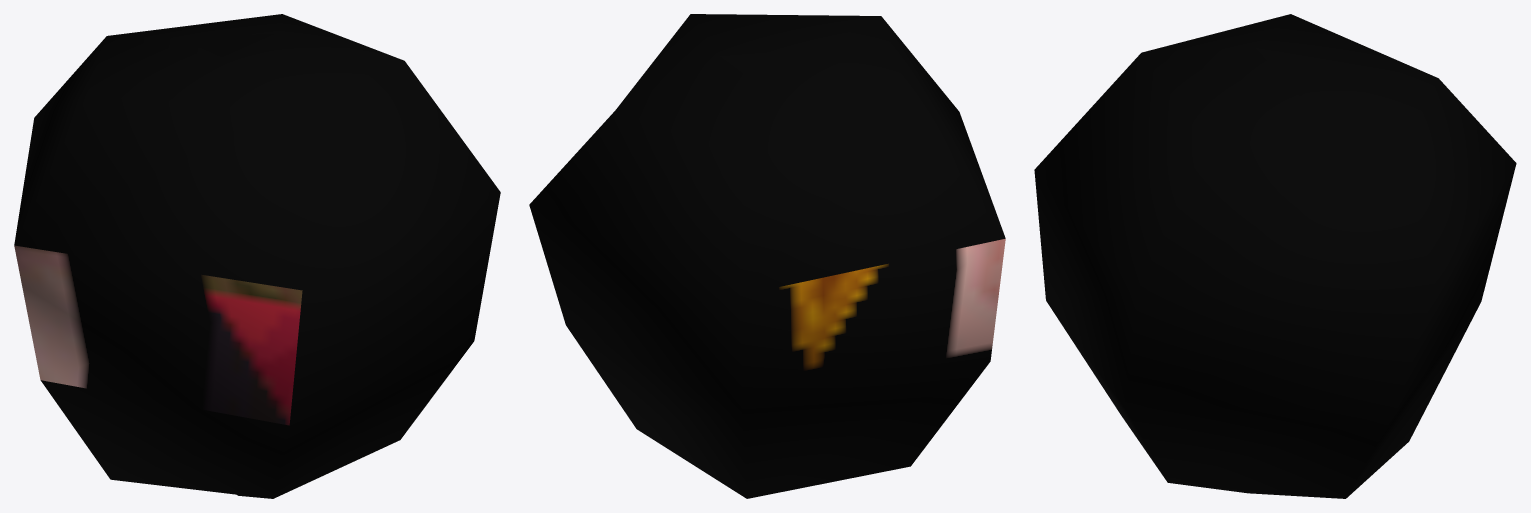
3 views of the same model, side by side, from view 1: azimuth 30°, elevation 25°; view 2: azimuth 150°, elevation 25°; view 3: azimuth 270°, elevation 25° (orthographic). The views are drawn at different scales.
Parts seen in each view (by area): view 1: T1L2M004_6; view 2: T1L2M004_6; view 3: T1L2M004_6.
Part boxes in pixels (x1,y1,x2,y2): T1L2M004_6: [14, 14, 500, 498]; T1L2M004_6: [529, 14, 1005, 498]; T1L2M004_6: [1034, 14, 1516, 498].
Size of the model in its own units: 2.11 by 2.04 by 2.16.
